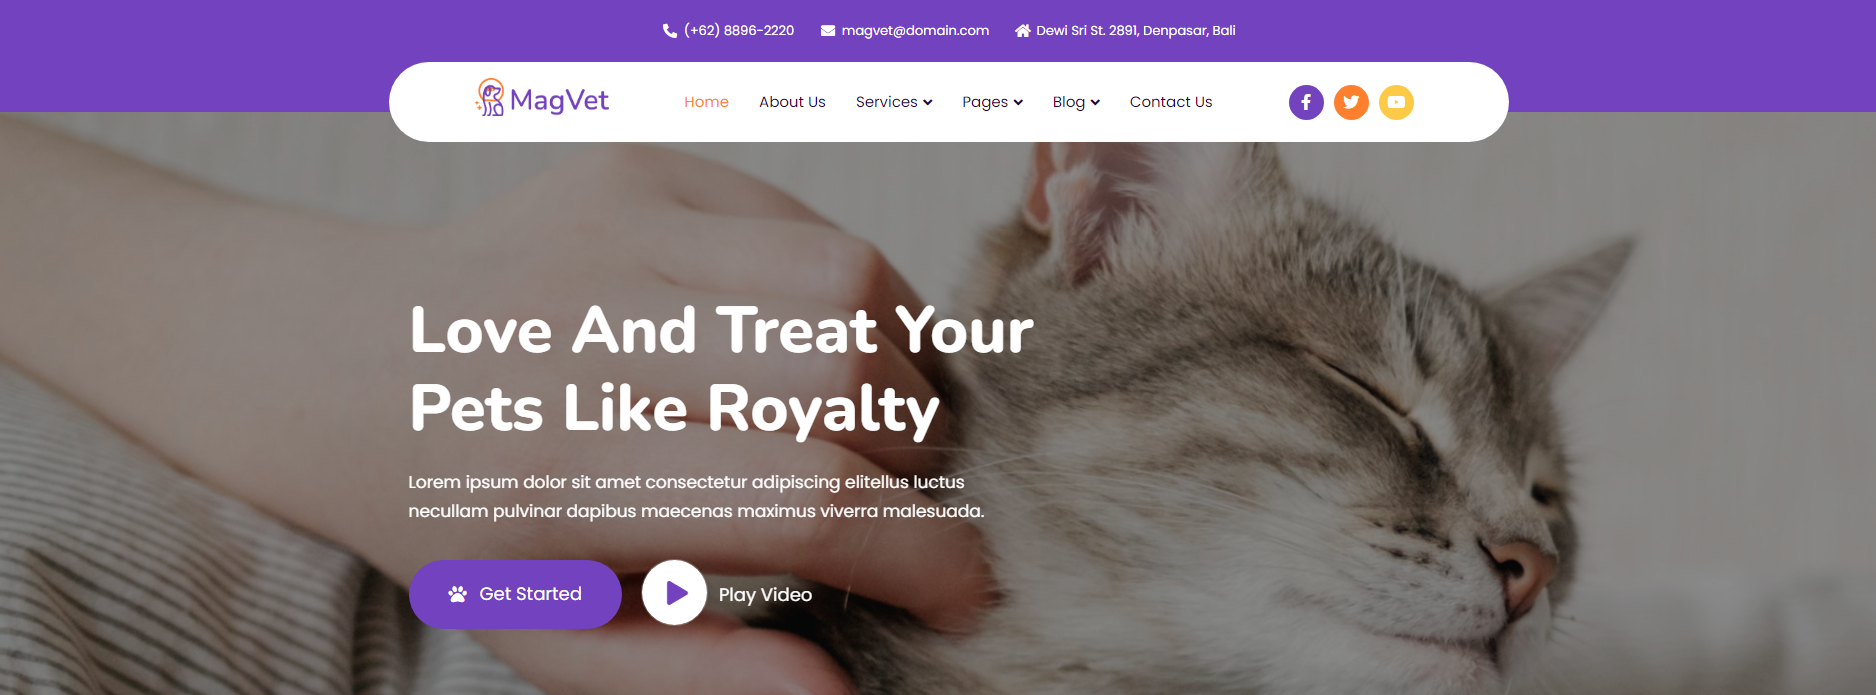menu-bar: (28, 25, 1852, 222)
